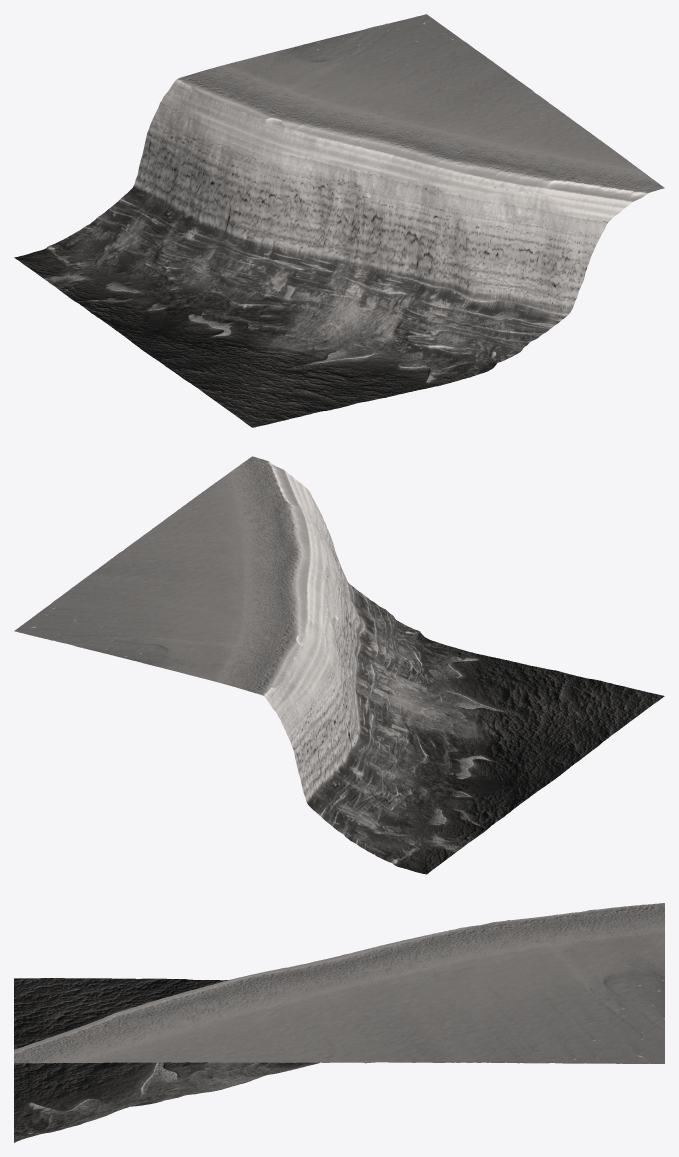
The model's file is north_polar_scarp.glb.
The picture shows the model from 3 angles, top to bottom: view 1: azimuth 30°, elevation 25°; view 2: azimuth 150°, elevation 25°; view 3: azimuth 270°, elevation 25°; orthographic projection. The views are drawn at different scales.
Parts seen in each view (by area): view 1: Terrain; view 2: Terrain; view 3: Terrain.
Boxes of the visible parts, x1=… form: Terrain: x1=14, y1=14, x2=664, y2=427; Terrain: x1=14, y1=456, x2=664, y2=874; Terrain: x1=14, y1=903, x2=664, y2=1142.
Size of the model in its own units: 2048 by 685 by 2048.
Materials: 1 (1 with a texture image).
